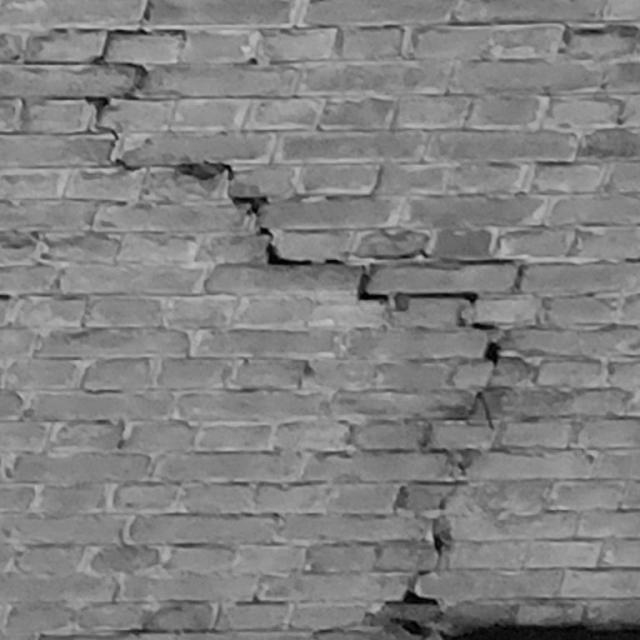crack: (85, 1, 501, 640)
